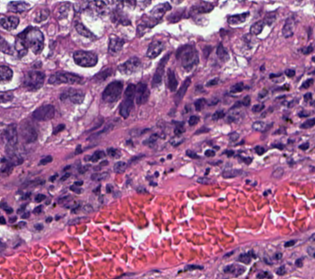nucleus: (152, 52, 170, 86), (176, 44, 198, 70), (22, 26, 43, 53), (119, 84, 135, 117), (102, 81, 122, 102), (48, 72, 82, 84), (23, 71, 44, 90), (73, 50, 97, 66), (175, 78, 190, 103), (118, 57, 140, 74), (60, 88, 84, 103), (32, 104, 54, 120), (146, 40, 164, 58), (90, 124, 113, 138), (135, 82, 149, 104), (108, 35, 124, 53), (224, 264, 245, 276), (94, 68, 111, 81), (238, 250, 255, 263), (167, 69, 177, 91), (216, 43, 228, 61), (85, 150, 104, 161), (253, 121, 270, 131), (222, 169, 243, 177), (91, 172, 108, 181), (143, 134, 158, 144), (194, 98, 206, 110), (114, 161, 127, 172), (300, 118, 314, 128), (230, 82, 243, 92), (174, 122, 184, 135), (170, 135, 183, 145), (107, 148, 120, 157), (39, 155, 52, 164), (256, 271, 272, 278), (272, 167, 283, 177), (228, 113, 241, 121), (188, 115, 198, 125), (301, 79, 312, 88), (53, 124, 64, 133), (301, 45, 313, 53), (206, 78, 218, 86), (212, 111, 224, 119), (186, 150, 198, 158), (238, 156, 251, 163), (240, 96, 250, 105), (184, 265, 202, 270), (252, 104, 263, 112), (258, 89, 267, 98), (229, 132, 238, 141), (276, 265, 285, 274), (70, 185, 81, 192), (285, 69, 294, 77), (255, 146, 264, 154), (295, 257, 303, 266), (35, 194, 45, 201), (307, 247, 314, 257), (197, 177, 208, 183), (284, 240, 295, 246), (196, 128, 208, 133), (69, 218, 81, 223), (61, 173, 69, 180), (33, 206, 41, 213), (299, 143, 308, 149), (205, 150, 214, 156), (224, 150, 233, 156), (83, 205, 92, 211), (304, 93, 311, 100), (106, 184, 112, 192), (49, 174, 56, 180), (298, 112, 308, 116), (75, 145, 80, 153), (225, 251, 233, 256), (275, 253, 281, 259), (35, 224, 42, 229), (74, 181, 82, 185), (63, 166, 69, 170), (46, 218, 51, 221)
